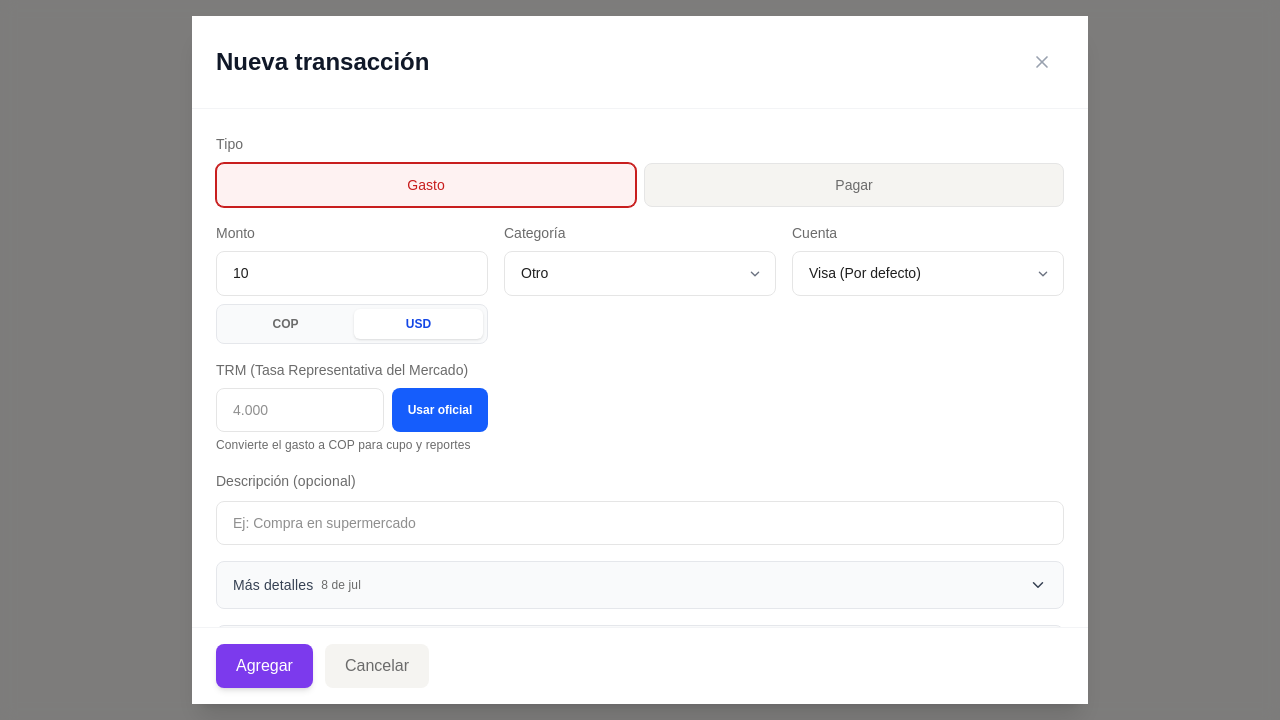
TransactionForm TRM oficial › marks the rate as official only after a successful lookup
Click the button "Usar oficial" at (440, 410), box [392,388,488,432]
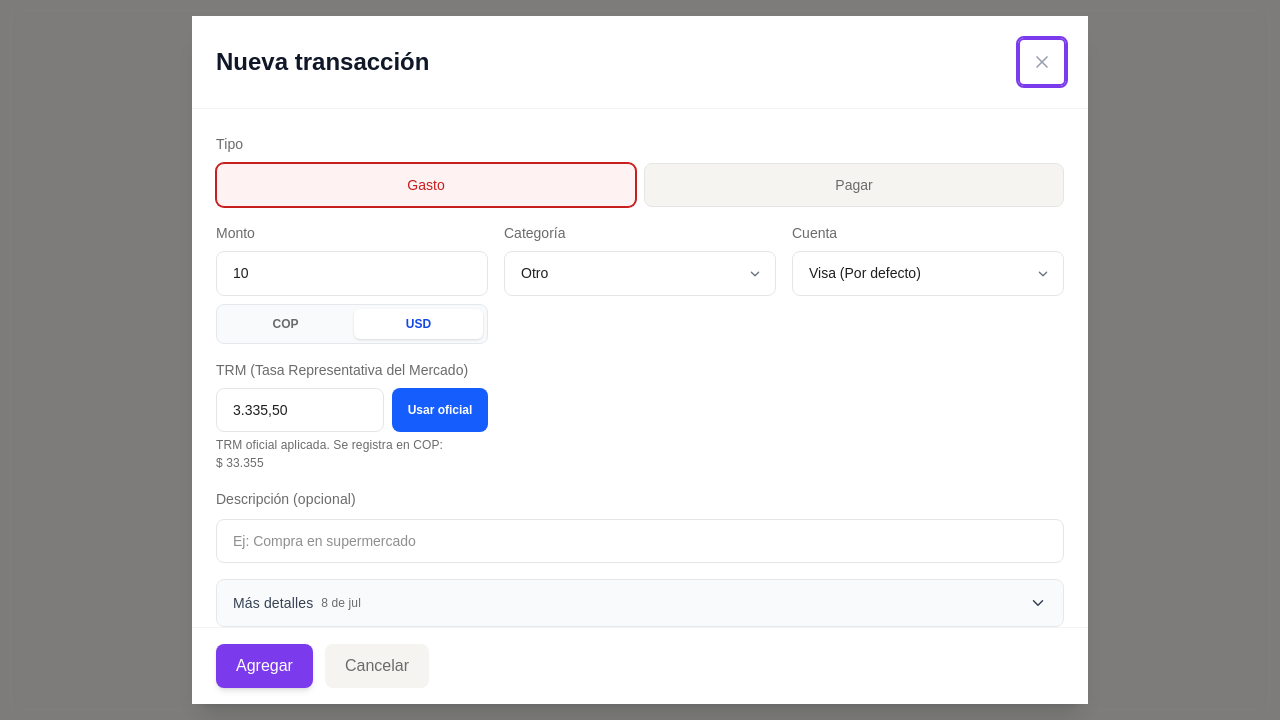
Check: the text "TRM oficial aplicada. Se registra en COP: $ 33.355" is shown, box [216,438,443,470]
Check: the field labelled "TRM (Tasa Representativa del Mercado)" holds "3.335,50", box [216,388,384,432]
